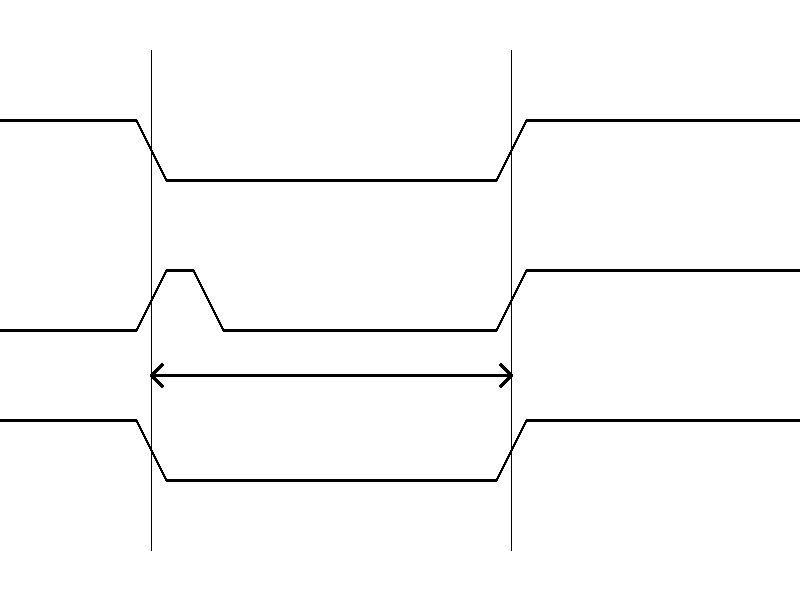double_arrow: (151, 360, 511, 390)
